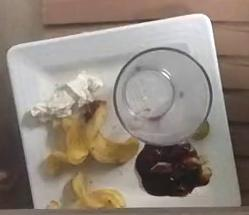fries: (45, 100, 139, 208)
